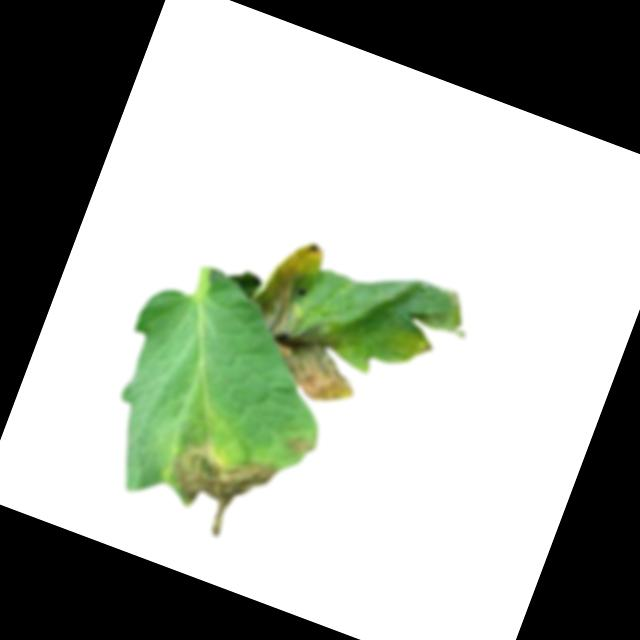Late_blight: (208, 223, 397, 414), (148, 428, 279, 552), (281, 431, 314, 461)
